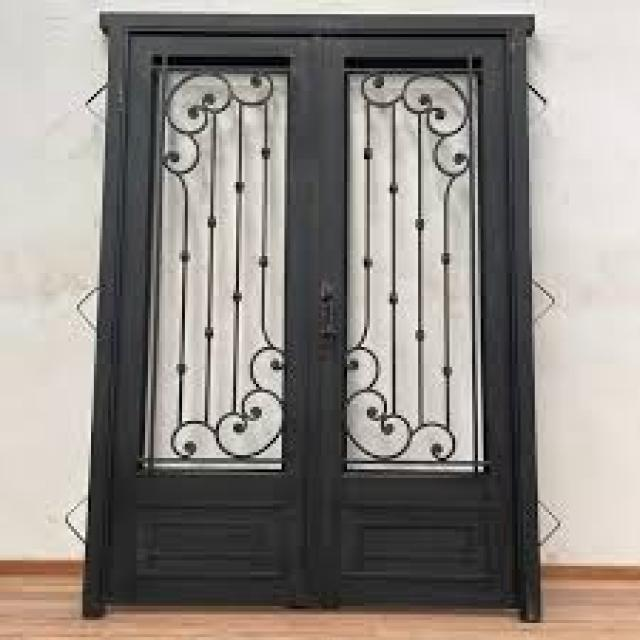door: (84, 11, 539, 620)
